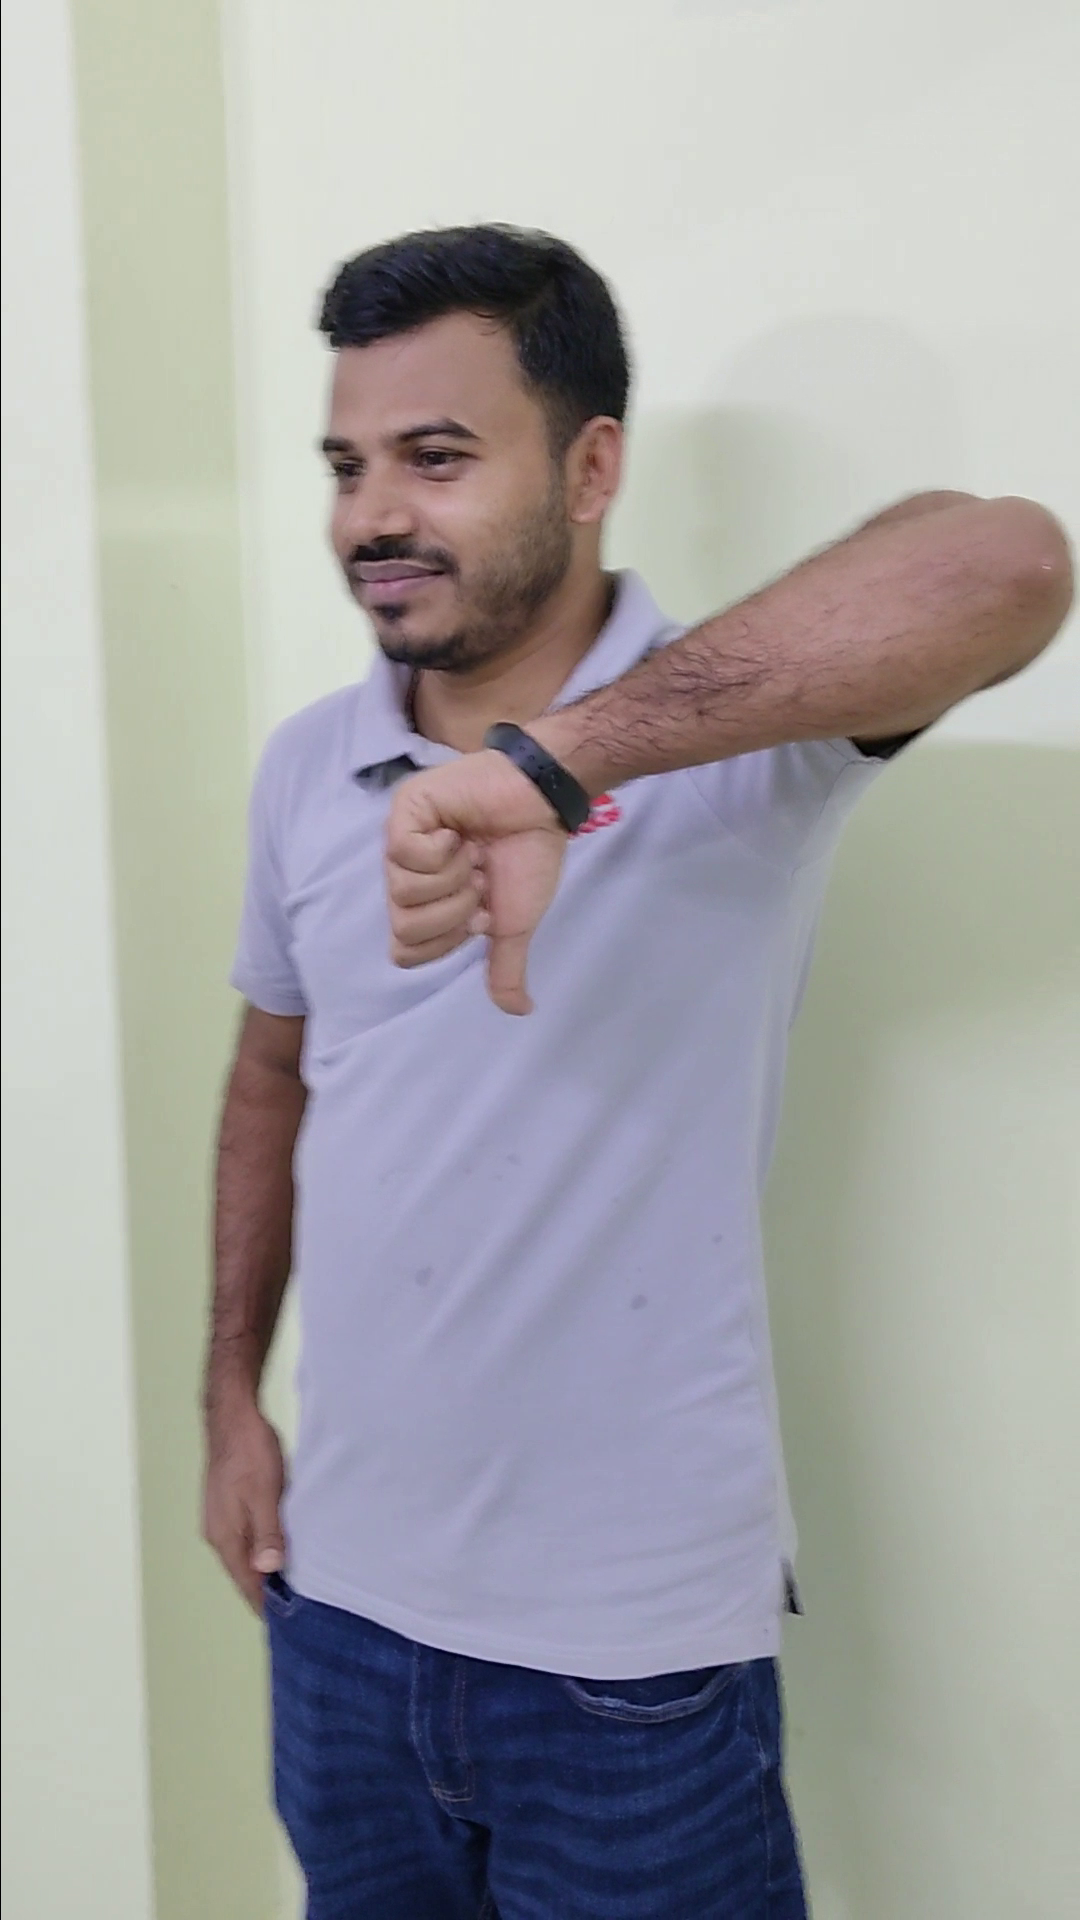Dislike: (357, 707, 587, 1033)
None: (170, 1348, 316, 1640)
